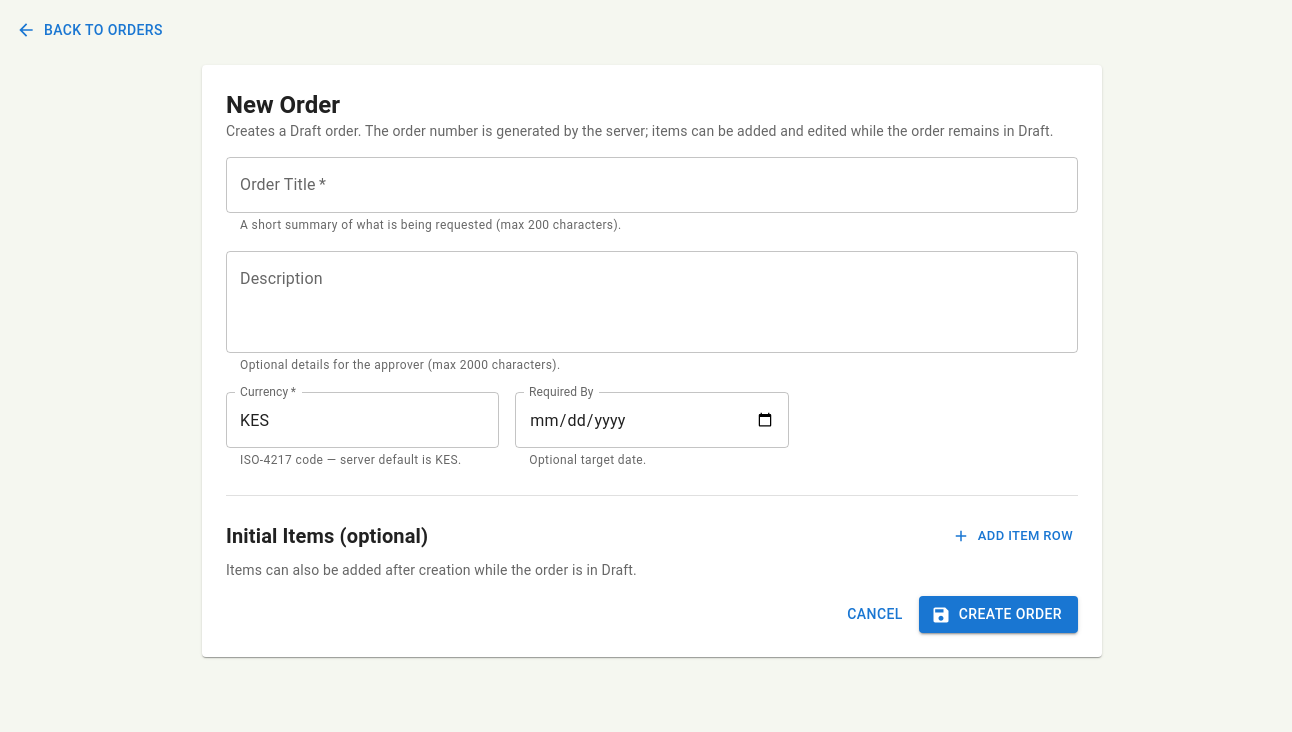
Scenario: OmsOrderCreate › validates the currency code length
The image size is (1292, 732).
Type "Supplies" into the field labelled "Order Title *".
click(652, 184); type("Supplies")  # box [226,156,1078,212]
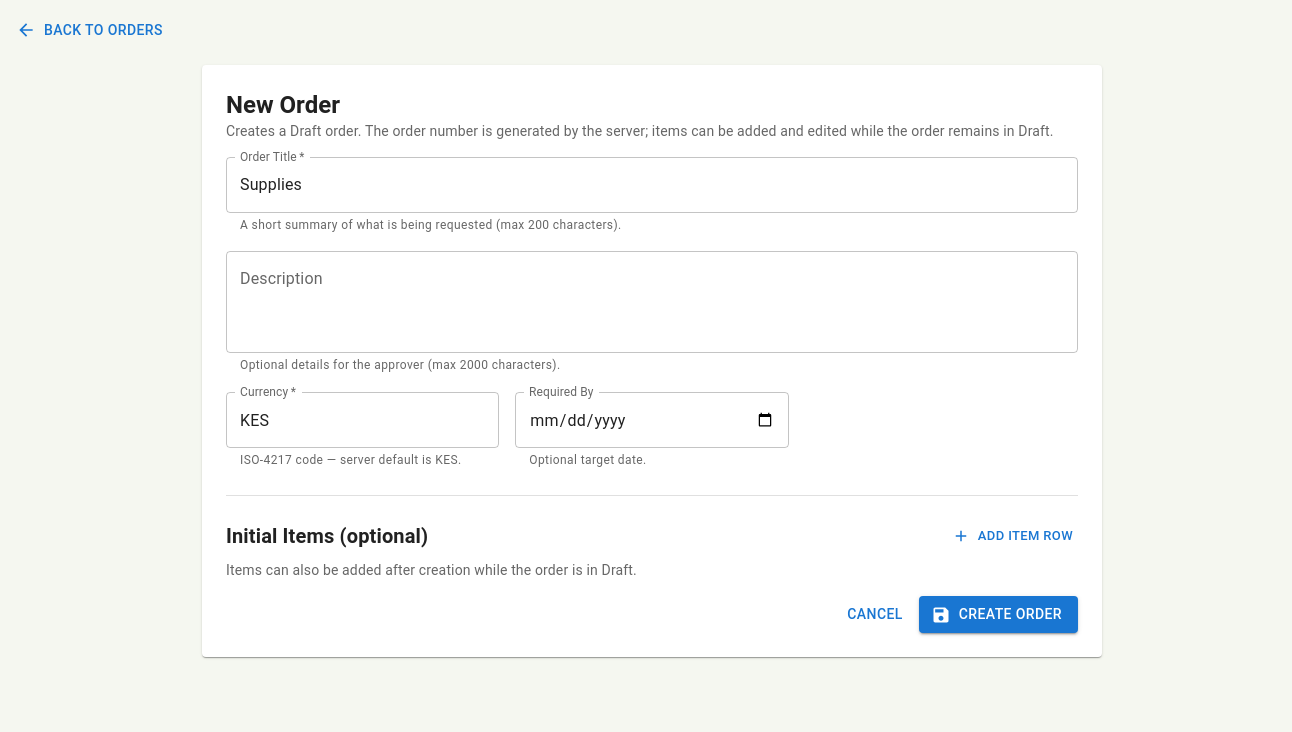
Replace the text in the field labelled "Currency *" with "KESX" at (363, 420), box [226,392,499,448]
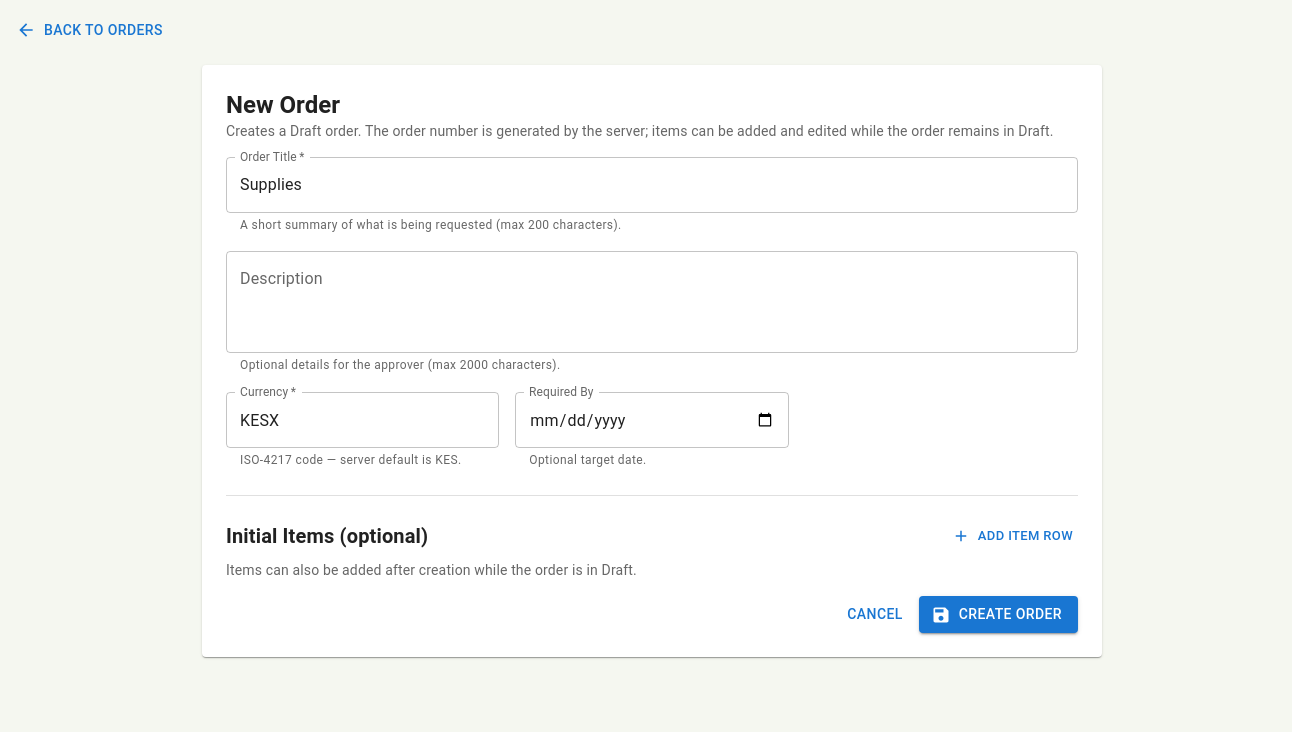
Click the button "Create Order".
click(998, 615)  # box [919,596,1078,633]
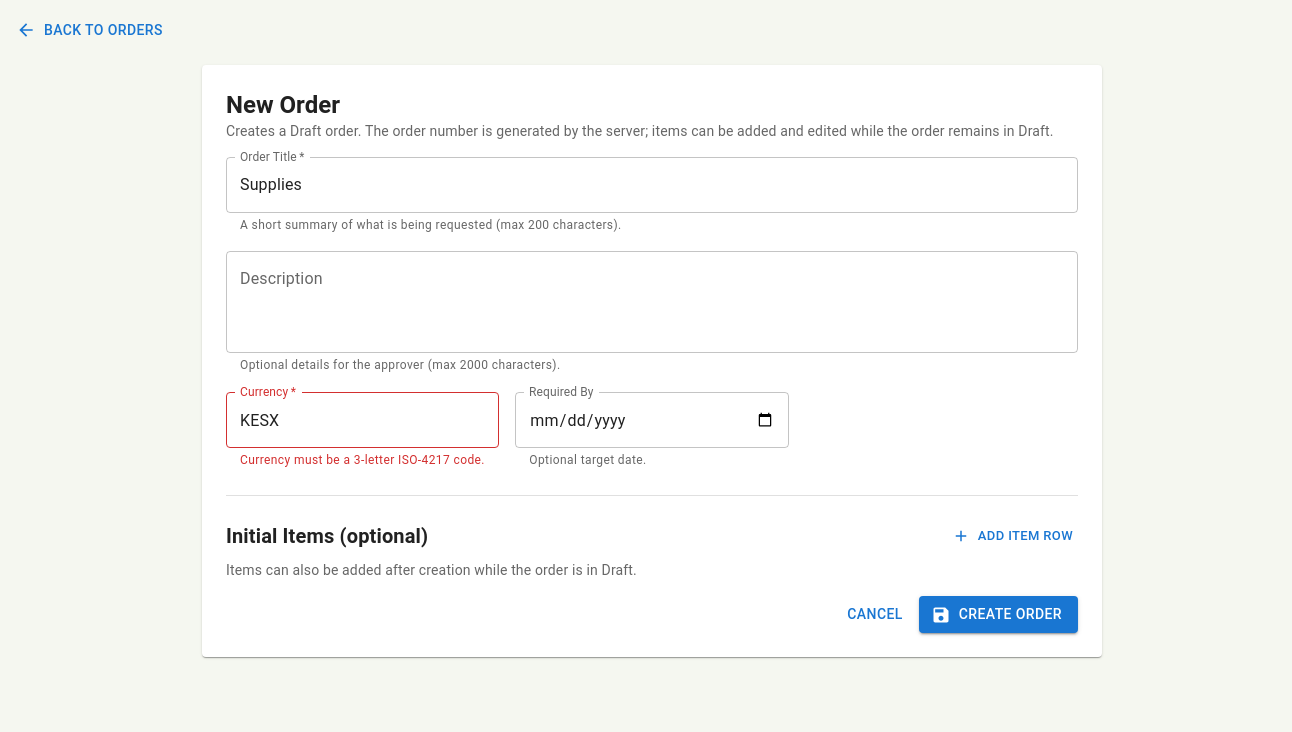
Expected: the text "Currency must be a 3-letter ISO-4217 code." is shown, [240,451,485,471]
